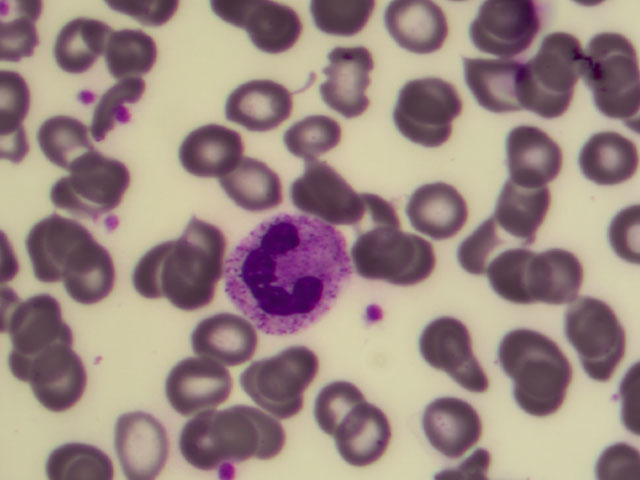Platelets: (365, 301, 387, 325), (115, 104, 139, 126), (80, 86, 97, 105), (106, 211, 121, 231), (219, 462, 236, 476)
RBC: (50, 18, 99, 69), (85, 11, 134, 62), (111, 24, 160, 75), (40, 109, 89, 160), (82, 147, 131, 198), (44, 168, 93, 219), (40, 215, 89, 266), (66, 245, 115, 296), (10, 292, 59, 343), (20, 322, 69, 373), (34, 354, 83, 405), (117, 417, 166, 468), (168, 413, 217, 464), (213, 410, 262, 461), (241, 409, 290, 460), (174, 359, 223, 410), (204, 313, 253, 364), (170, 251, 219, 302), (139, 242, 188, 293), (177, 216, 226, 267), (193, 124, 242, 175), (239, 156, 288, 207), (299, 113, 348, 164), (231, 77, 280, 128), (320, 51, 369, 102), (396, 4, 445, 55), (407, 65, 456, 116), (401, 96, 450, 147), (515, 130, 564, 181), (476, 53, 525, 104), (521, 68, 570, 119), (542, 34, 591, 85), (479, 8, 528, 59), (591, 50, 640, 101), (584, 126, 633, 177), (501, 169, 550, 220), (462, 216, 511, 267), (417, 184, 466, 235), (356, 226, 405, 277), (388, 234, 437, 285), (352, 188, 401, 239), (311, 165, 360, 216), (416, 312, 465, 363), (435, 340, 484, 391), (502, 328, 551, 379), (512, 360, 561, 411), (565, 298, 614, 349), (579, 335, 628, 386), (533, 252, 582, 303), (497, 254, 546, 305), (427, 395, 476, 446), (343, 412, 392, 463), (321, 382, 370, 433), (272, 353, 321, 404), (252, 357, 301, 408), (248, 1, 297, 51)
WBC: (226, 214, 343, 331)
